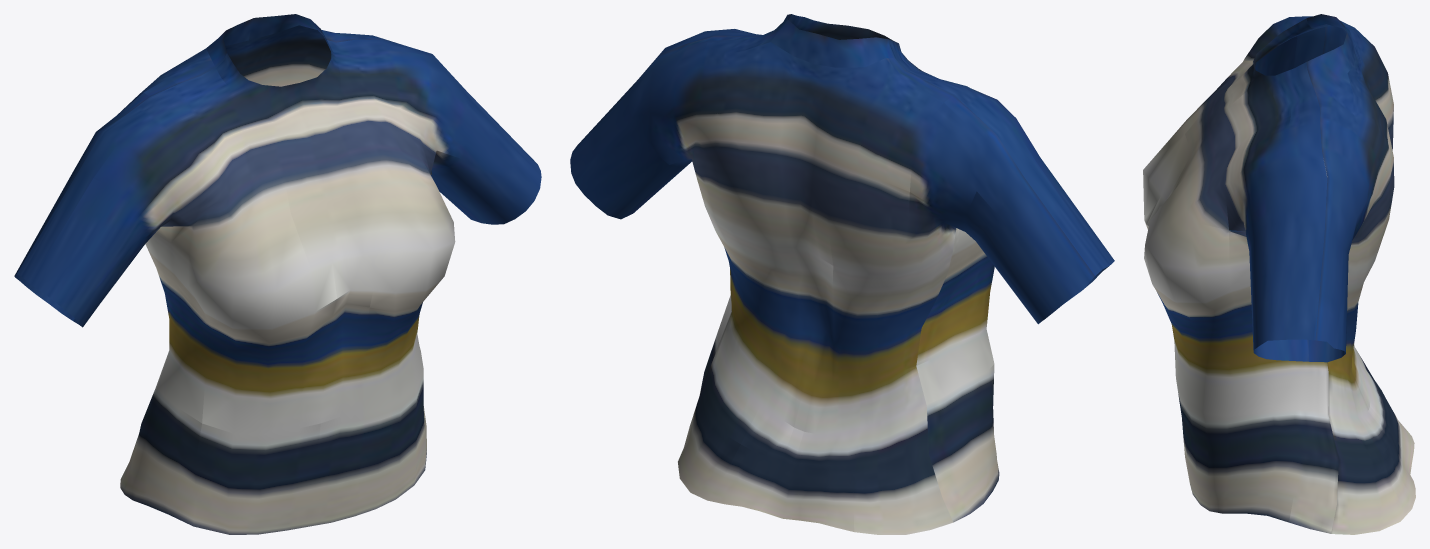
Rendered from TXL_XLF.dae.
The picture shows the model from 3 angles, left to right: view 1: azimuth 30°, elevation 25°; view 2: azimuth 150°, elevation 25°; view 3: azimuth 270°, elevation 25°; orthographic projection. The views are drawn at different scales.
Parts seen in each view (by area): view 1: tshirt_shortMesh; view 2: tshirt_shortMesh; view 3: tshirt_shortMesh.
Boxes of the visible parts, x1=… form: tshirt_shortMesh: x1=14, y1=14, x2=541, y2=534; tshirt_shortMesh: x1=570, y1=14, x2=1114, y2=534; tshirt_shortMesh: x1=1143, y1=14, x2=1415, y2=534.
Size of the model in its own units: 6.31 by 5.31 by 2.96.
